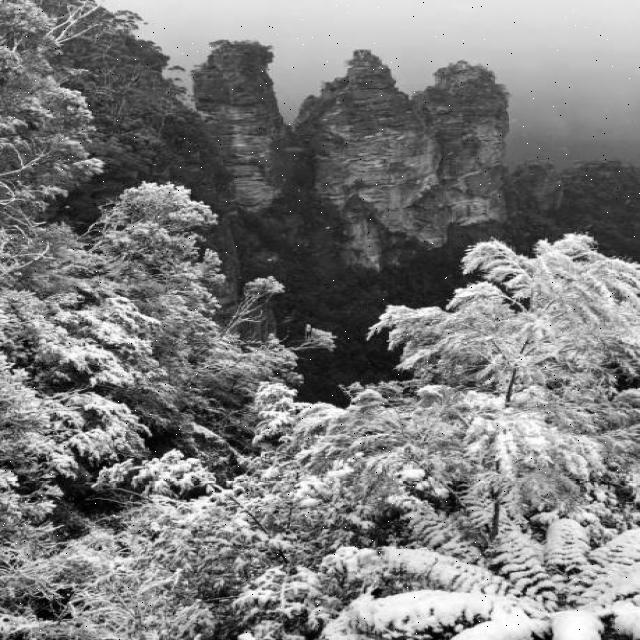Sedimentary: (166, 33, 528, 275)
